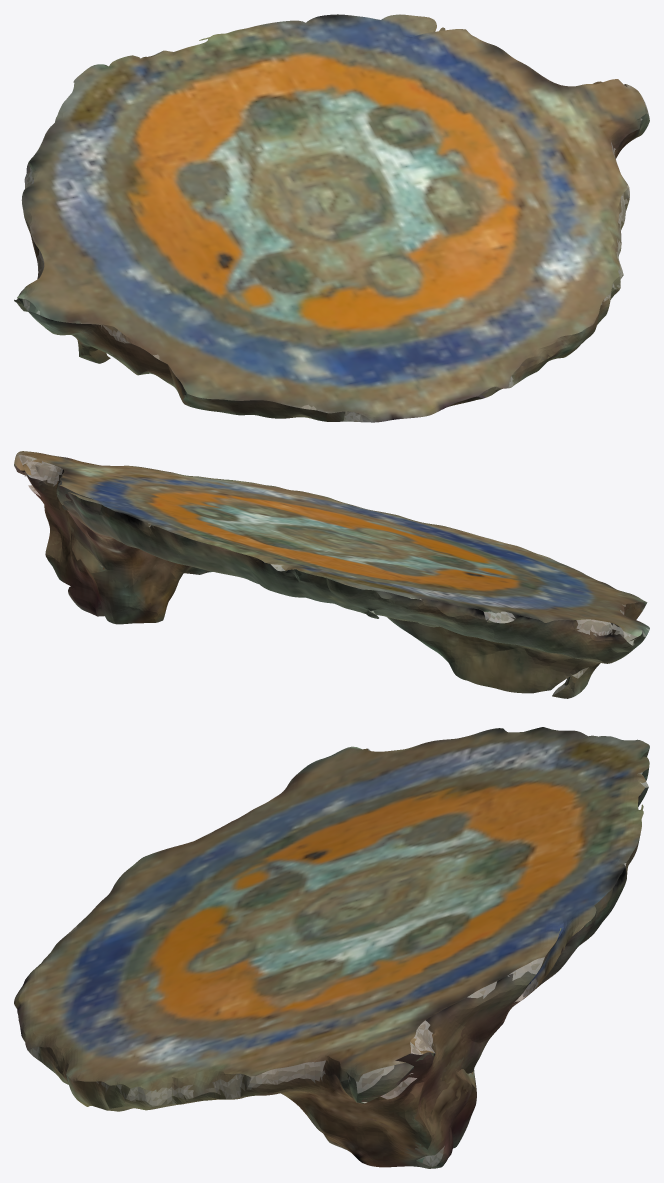
The model's file is roman_enamelled_disc_brooch.glb.
3 views of the same model, one above another, from view 1: azimuth 30°, elevation 25°; view 2: azimuth 150°, elevation 25°; view 3: azimuth 270°, elevation 25° (orthographic). The views are drawn at different scales.
Size of the model in its own units: 97.62 by 26.82 by 69.79.
1 material, 1 textured.
